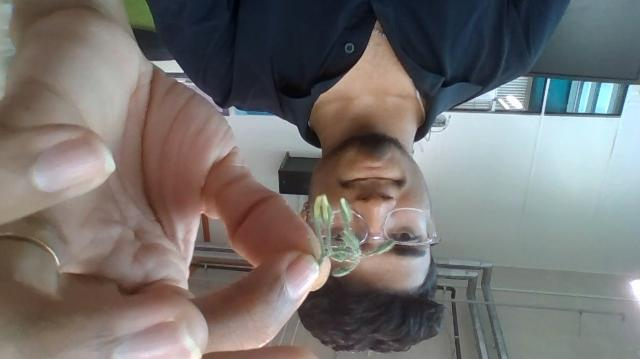Flower Bud: (327, 239, 384, 276), (333, 193, 362, 264), (306, 209, 322, 267), (357, 240, 397, 258), (325, 243, 358, 263), (314, 193, 331, 226), (330, 260, 359, 277), (339, 196, 352, 226)
